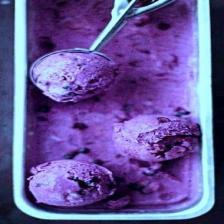purple: (13, 0, 215, 220)
